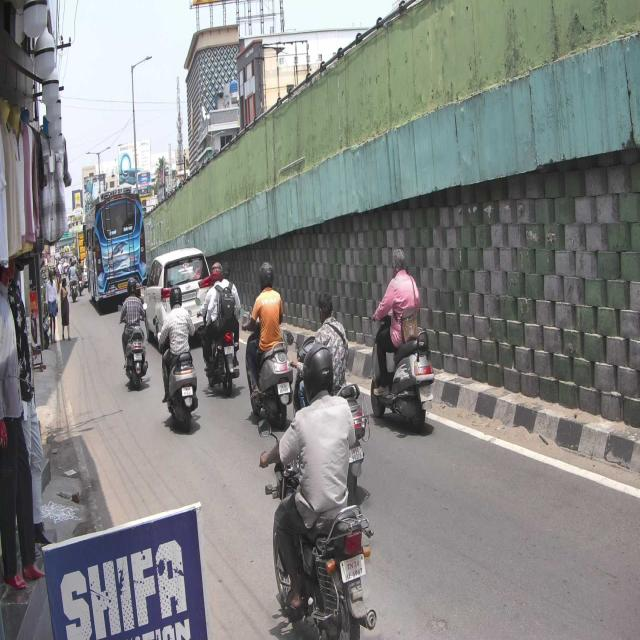single_rider: (257, 341, 369, 640), (372, 244, 437, 432), (157, 283, 199, 432)
